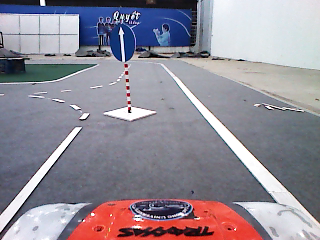straight: (109, 22, 139, 63)
